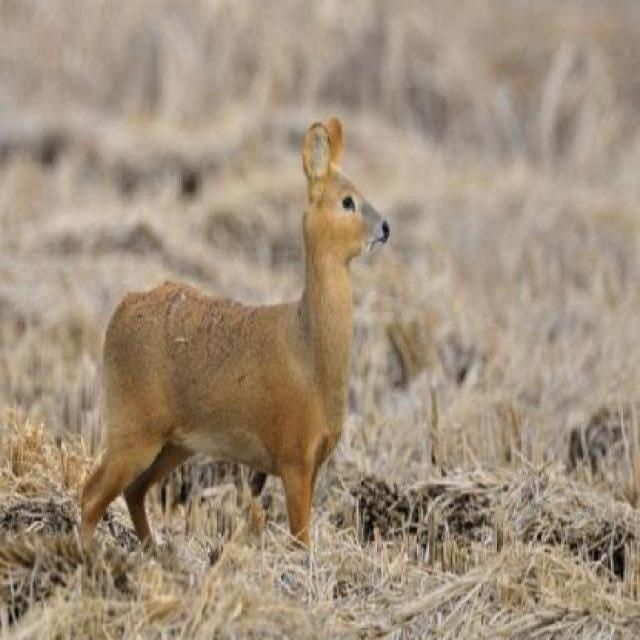deer: (69, 109, 408, 588)
